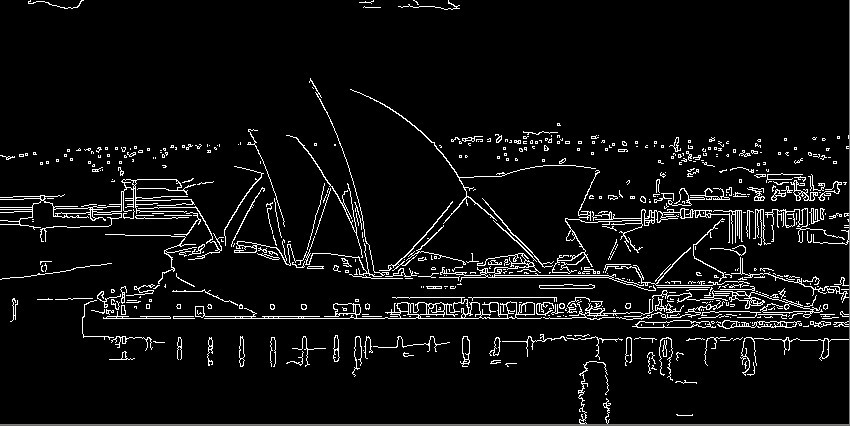opera house: (121, 83, 737, 301)
